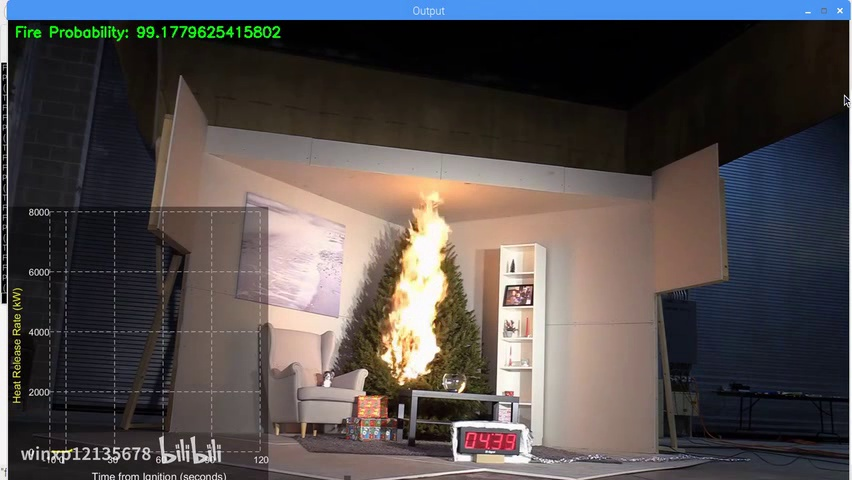fire: (383, 189, 450, 386)
